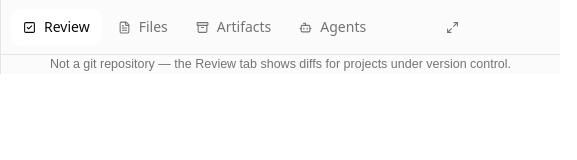
it: artifact tab renders its session panel
Step 1. Click the button "Artifacts" → click(234, 27), box [184,9,283,45]
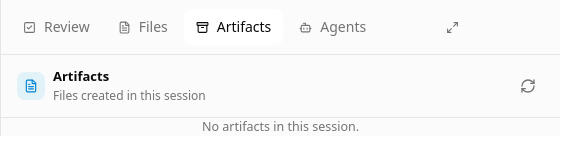
Check: the element labelled "Artifacts" is shown, box [1,55,560,136]
